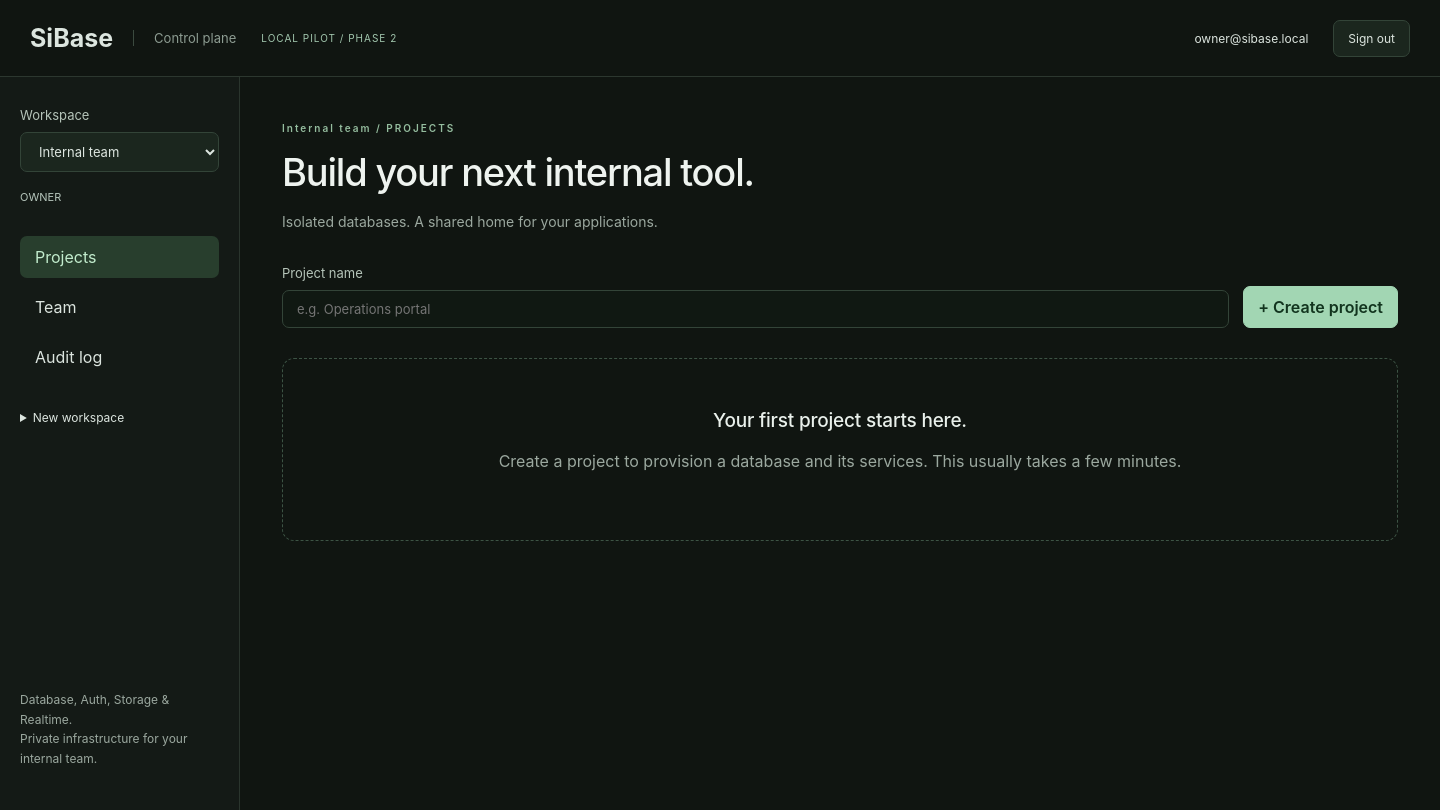
Test case: Phase 2 control dashboard › shows empty state, membership and audit views
Expected: the heading "Your first project starts here." is shown, [713, 409, 967, 432]
What coordinates should you click on to do the following:
click the button "Team"
I would click on:
 (120, 307)
Its box is [20, 286, 219, 328].
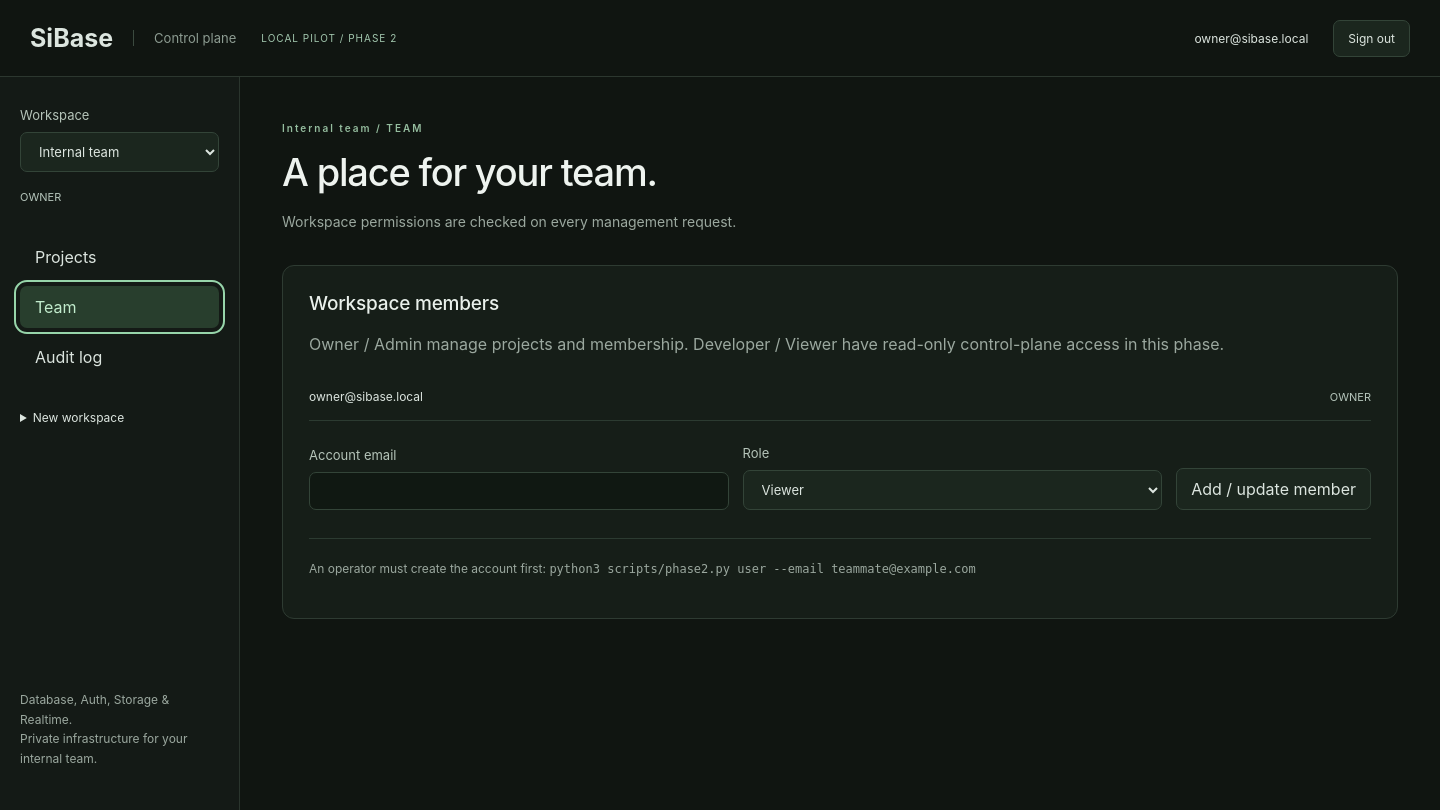
Expected: the heading "Workspace members" is shown, [309, 292, 499, 315]
What coordinates should you click on to do the following:
click the button "Audit log"
I would click on:
 (120, 357)
Its box is [20, 336, 219, 378].
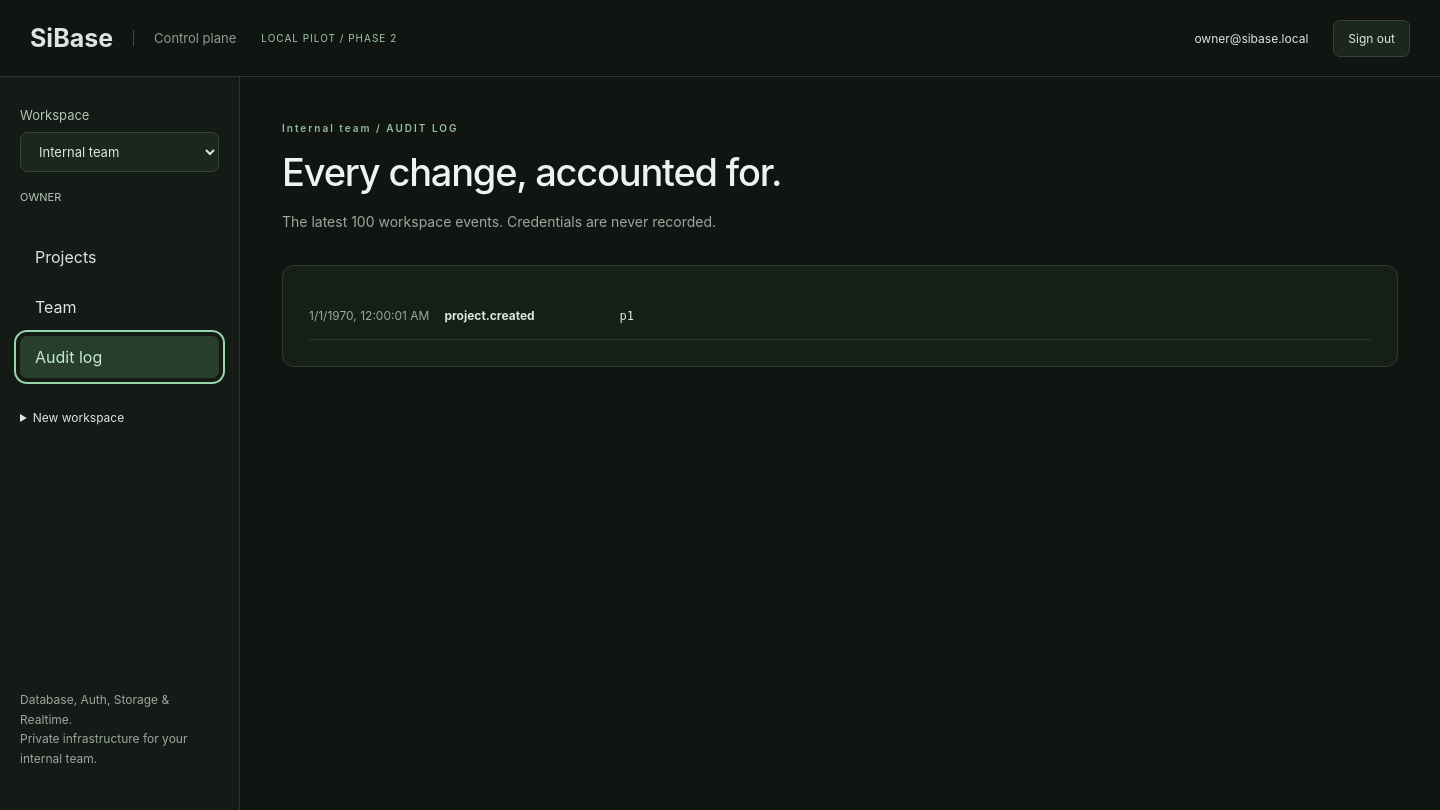
Expected: the text "project.created" is shown, [444, 308, 535, 323]
